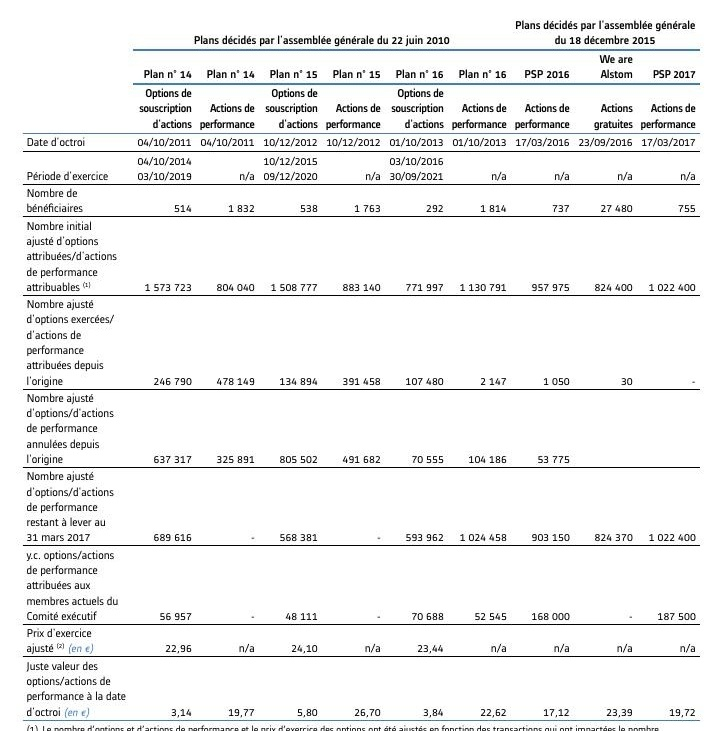table: (0, 0, 717, 731)
